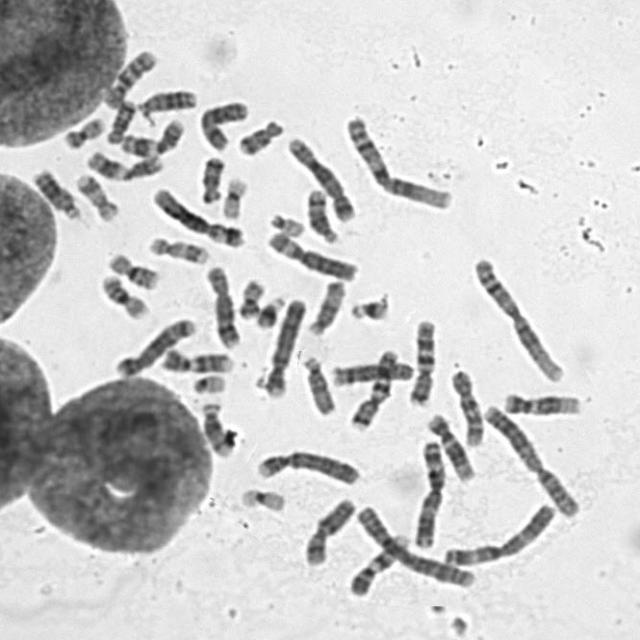A1: (468, 251, 569, 384), (340, 108, 457, 212)
A2: (478, 396, 584, 518), (351, 499, 478, 590)
A3: (437, 496, 560, 568), (408, 434, 450, 550)
B4: (260, 291, 309, 399), (250, 443, 364, 486)
B5: (283, 128, 360, 224), (110, 310, 200, 377)
C10: (98, 43, 160, 109), (444, 362, 488, 448)
C11: (114, 112, 188, 158), (80, 144, 166, 182)
C12: (420, 407, 478, 483), (498, 386, 586, 418)
C6: (148, 180, 248, 249), (261, 224, 363, 283)
C7: (344, 342, 402, 432), (403, 311, 440, 407)
C8: (199, 258, 244, 349), (325, 354, 418, 387)
C9: (343, 527, 414, 597), (156, 342, 237, 375)
D13: (27, 161, 84, 221), (131, 82, 199, 116)
D14: (195, 394, 239, 458), (300, 182, 343, 244)
D15: (295, 348, 339, 417), (302, 274, 348, 338)
E16: (94, 267, 152, 320), (103, 246, 163, 291)
E17: (70, 166, 122, 222), (142, 230, 213, 265)
E18: (232, 112, 287, 157), (195, 150, 227, 204)
F19: (234, 481, 289, 514), (216, 170, 251, 220)
F20: (58, 110, 109, 150), (233, 272, 267, 321)
G21: (344, 289, 392, 323), (250, 289, 289, 330)
G22: (264, 206, 308, 238), (187, 368, 229, 395)
X: (298, 490, 359, 568), (194, 94, 252, 152)
